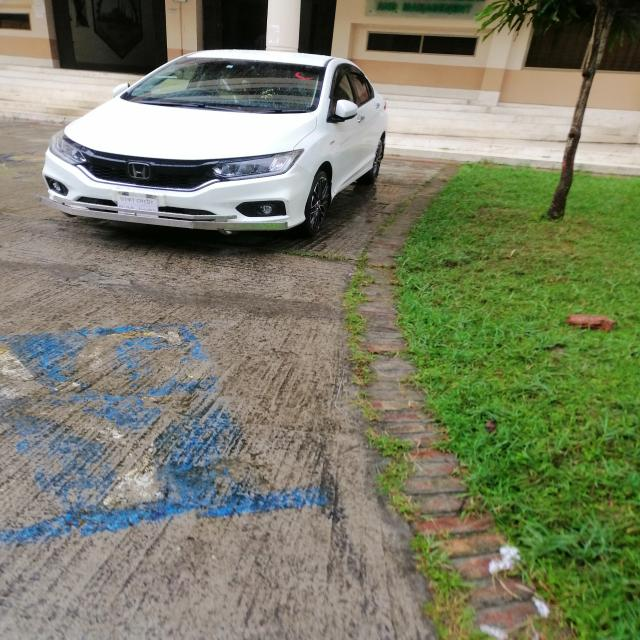Car: (37, 49, 394, 245)
